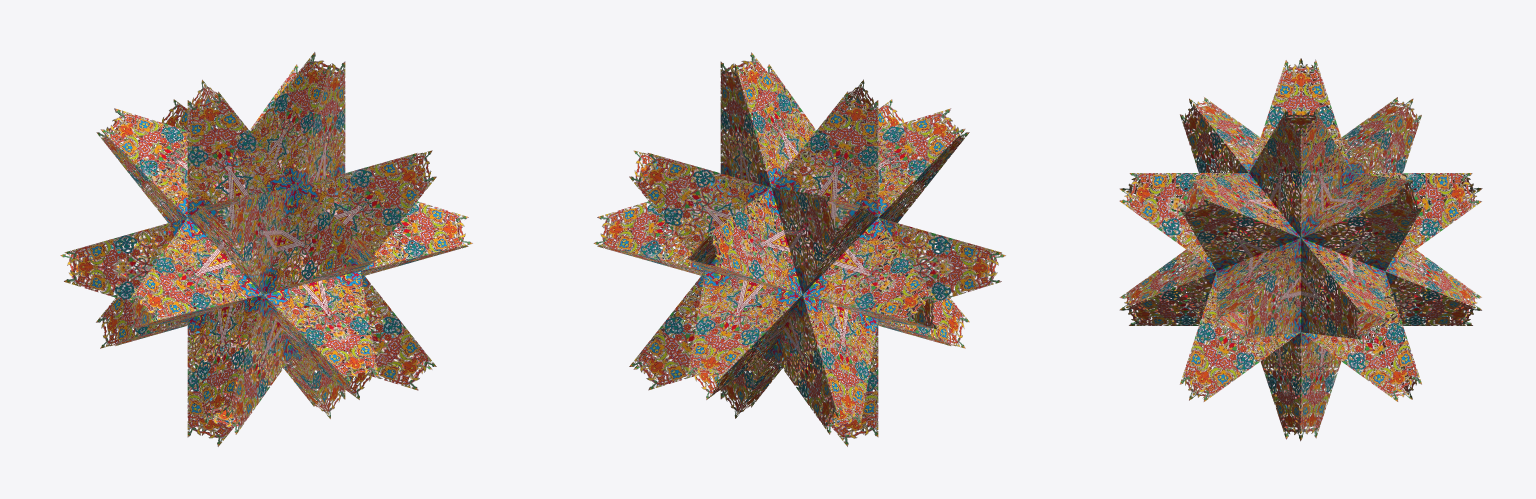
The model's file is GreatStellatedDodecahedron4.obj.
The picture shows the model from 3 angles, left to right: view 1: azimuth 30°, elevation 25°; view 2: azimuth 150°, elevation 25°; view 3: azimuth 270°, elevation 25°; orthographic projection. The views are drawn at different scales.
Bounding box in the file's own units: 1 × 1 × 1.
Materials: 1 (1 with a texture image).
